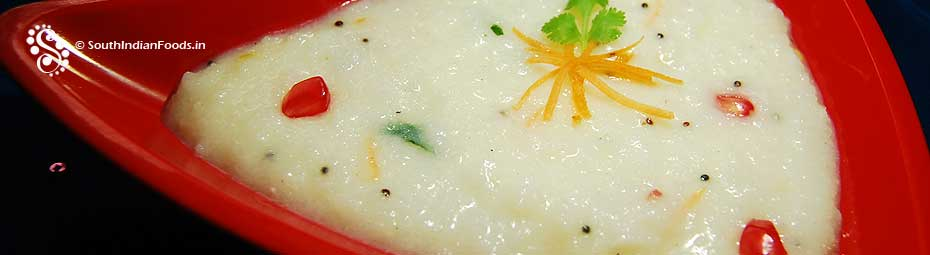curd_rice: (155, 12, 894, 255)
